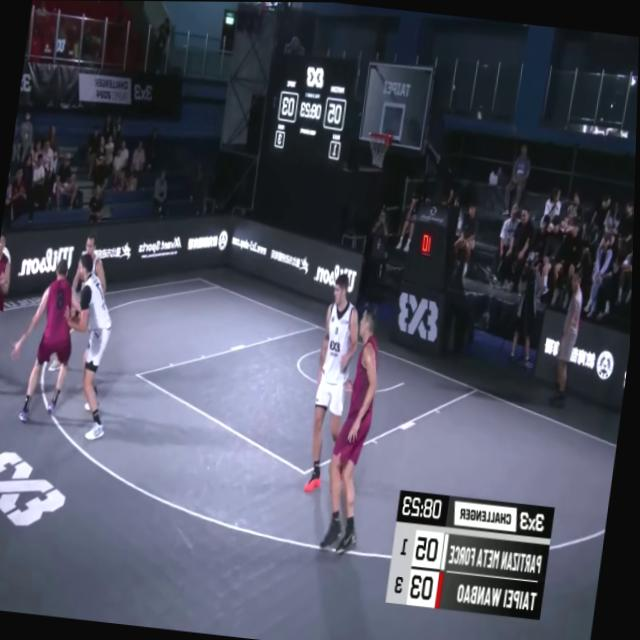ball: (0, 270, 6, 298)
hoop: (362, 123, 394, 169)
player: (320, 296, 392, 559), (50, 249, 126, 442), (6, 255, 87, 429), (306, 274, 370, 490), (53, 225, 115, 381), (0, 230, 18, 399)
